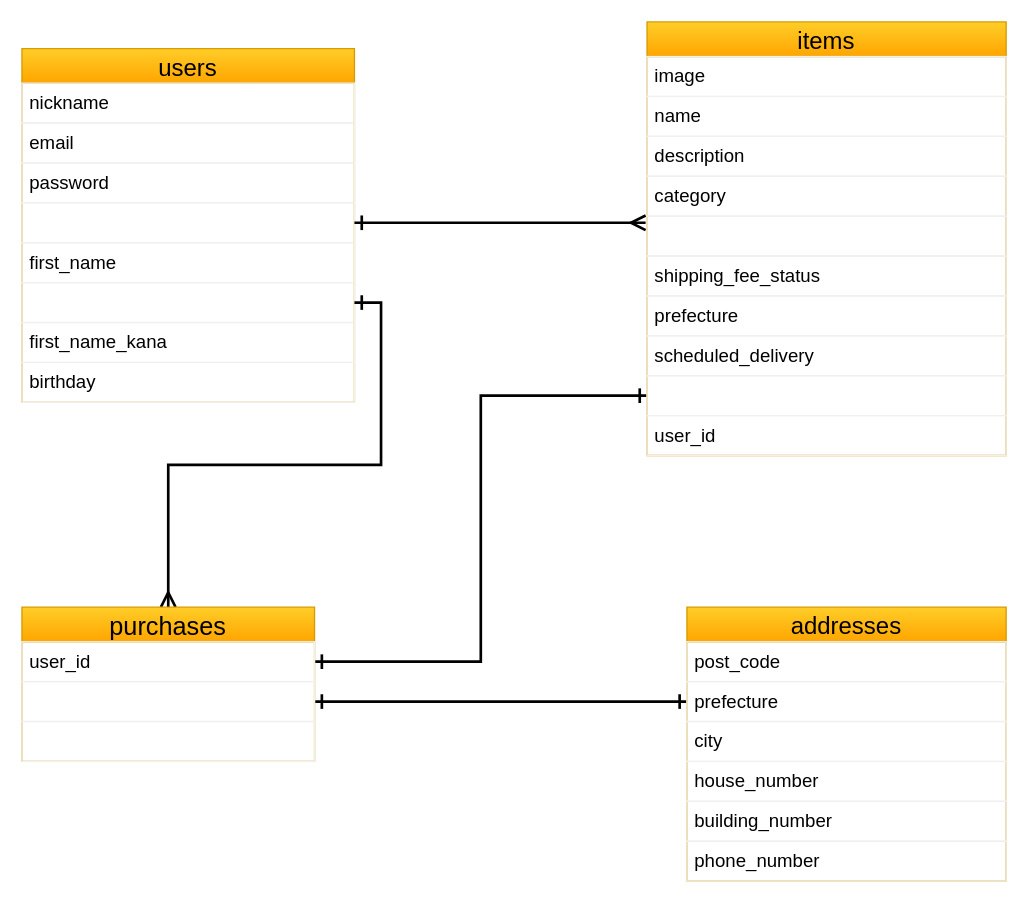
The diagram is 1028 pixels wide and 903 high, and some of its shapes have lost their labels. The centre of each missing label's shape, as x and y in pixels:
condition: point (826, 235)
date: point (168, 701)
item_id: point (168, 740)
last_name: point (187, 222)
last_name_kana: point (187, 302)
price: point (826, 395)
